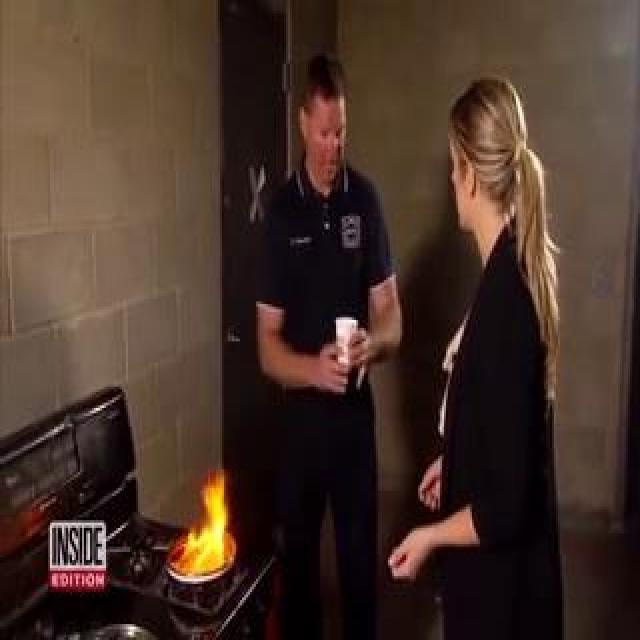Fire: (62, 96, 192, 522)
